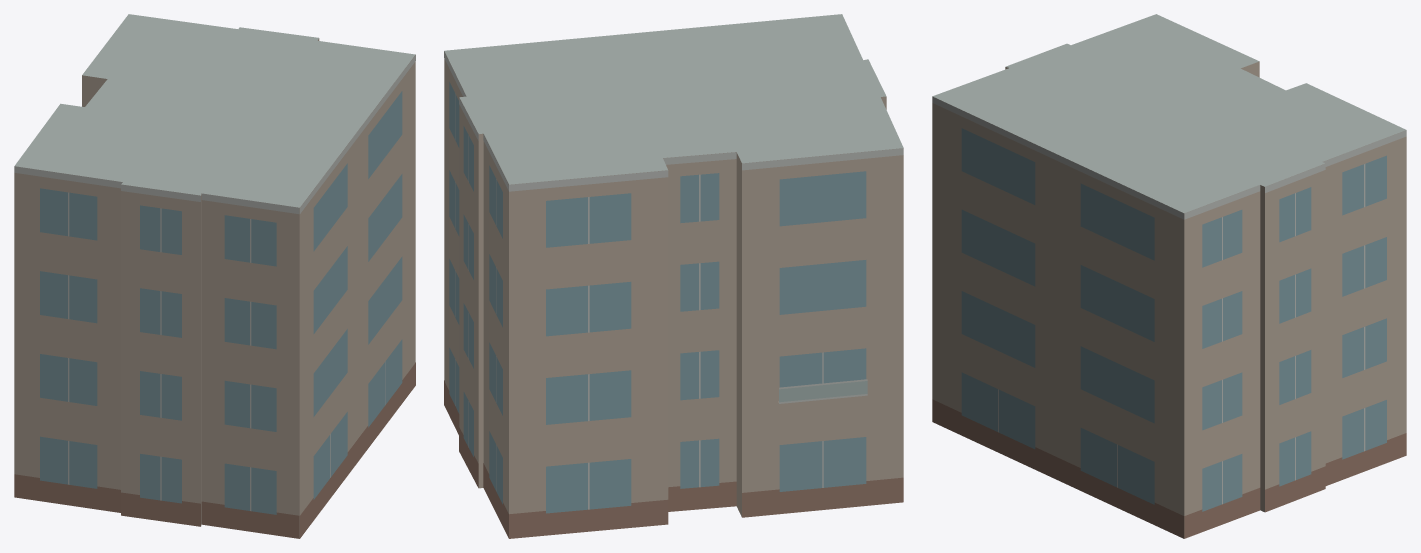
File: survey-upis-32942152.glb
3 views of the same model, side by side, from view 1: azimuth 30°, elevation 25°; view 2: azimuth 150°, elevation 25°; view 3: azimuth 270°, elevation 25° (orthographic). The views are drawn at different scales.
Parts seen in each view (by area): view 1: survey-upis-32942152.tmp; view 2: survey-upis-32942152.tmp; view 3: survey-upis-32942152.tmp.
Part boxes in pixels (x1,y1,x2,y2): survey-upis-32942152.tmp: [14, 14, 415, 538]; survey-upis-32942152.tmp: [444, 14, 903, 538]; survey-upis-32942152.tmp: [932, 14, 1406, 538].
Bounding box in the file's own units: 16.15 × 12.29 × 16.24.
